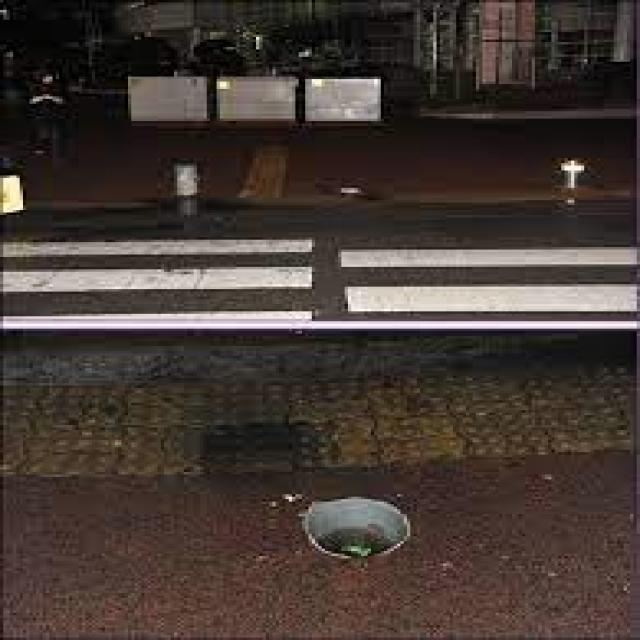bollard: (164, 156, 211, 204)
